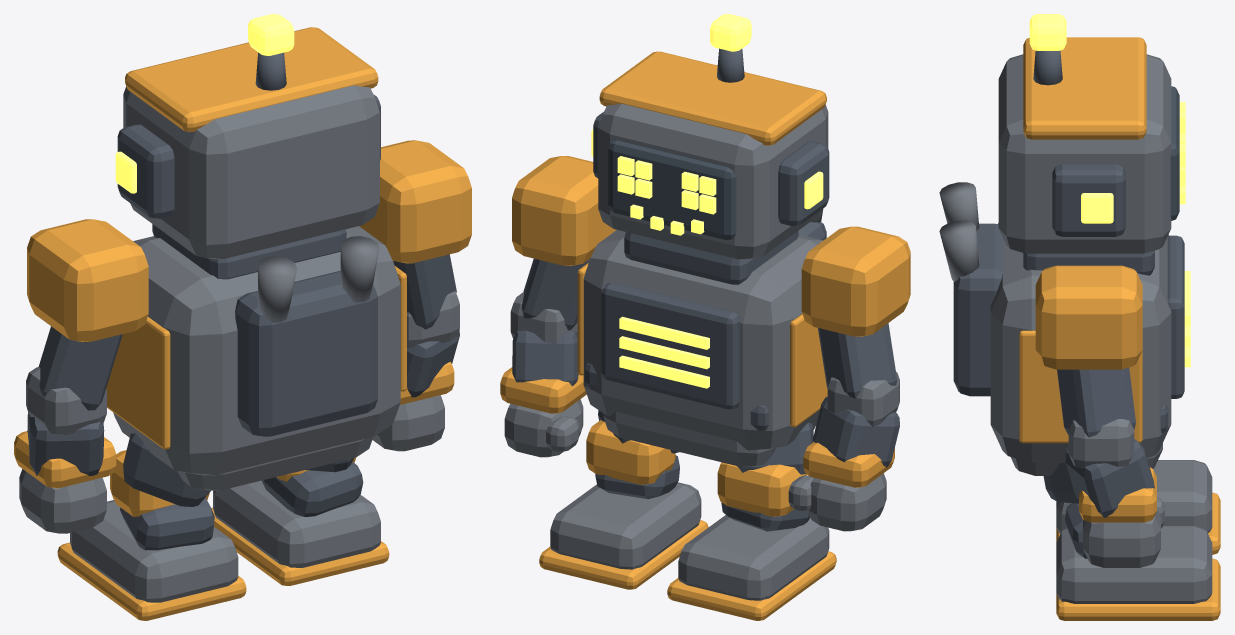
File: grokbot-b.glb
The picture shows the model from 3 angles, left to right: view 1: azimuth 30°, elevation 25°; view 2: azimuth 150°, elevation 25°; view 3: azimuth 270°, elevation 25°; orthographic projection. The views are drawn at different scales.
Visible parts, largest first — view 1: head_box, body, backpack, head_stripe, shoulder_l, shoulder_r, foot_l, foot_r, stripe_l, upperarm_l, hand_l, ear_l (+22 smaller); view 2: body, head_box, head_stripe, chest_panel, shoulder_l, foot_r, foot_l, shoulder_r, visor, upperarm_l, hip, collar (+29 smaller); view 3: head_box, body, head_stripe, shoulder_r, foot_r, backpack, stripe_r, ear_r, upperarm_r, foot_l, hand_r, sole_r (+16 smaller).
Part boxes in pixels (x1,y1,x2,y2): head_box: (123,85,379,259); body: (113,226,400,475); backpack: (235,270,377,436); head_stripe: (125,27,378,131); shoulder_l: (27,219,148,341); shoulder_r: (359,140,471,263); foot_l: (70,500,238,602); foot_r: (213,480,380,567); stripe_l: (106,316,170,449); upperarm_l: (38,326,122,410); hand_l: (19,469,106,533); ear_l: (117,124,174,218); body: (583,230,823,450); head_box: (598,103,828,259); head_stripe: (599,51,826,145); chest_panel: (601,282,739,409); shoulder_l: (801,226,910,336); foot_r: (550,482,701,569); foot_l: (678,515,829,600); shoulder_r: (512,156,616,265); visor: (608,140,736,239); upperarm_l: (818,323,897,398); hip: (603,411,816,466); collar: (624,231,798,284); head_box: (998,54,1171,253); body: (990,223,1171,462); head_stripe: (1023,37,1146,139); shoulder_r: (1035,265,1142,369); foot_r: (1056,525,1212,603); backpack: (953,223,1003,396); stripe_r: (1019,330,1142,443); ear_r: (1052,164,1125,236); upperarm_r: (1057,367,1135,437); foot_l: (1056,460,1212,533); hand_r: (1083,509,1160,567); sole_r: (1056,558,1220,620).
Bounding box in the file's own units: 1.13 × 1.47 × 0.6845.
